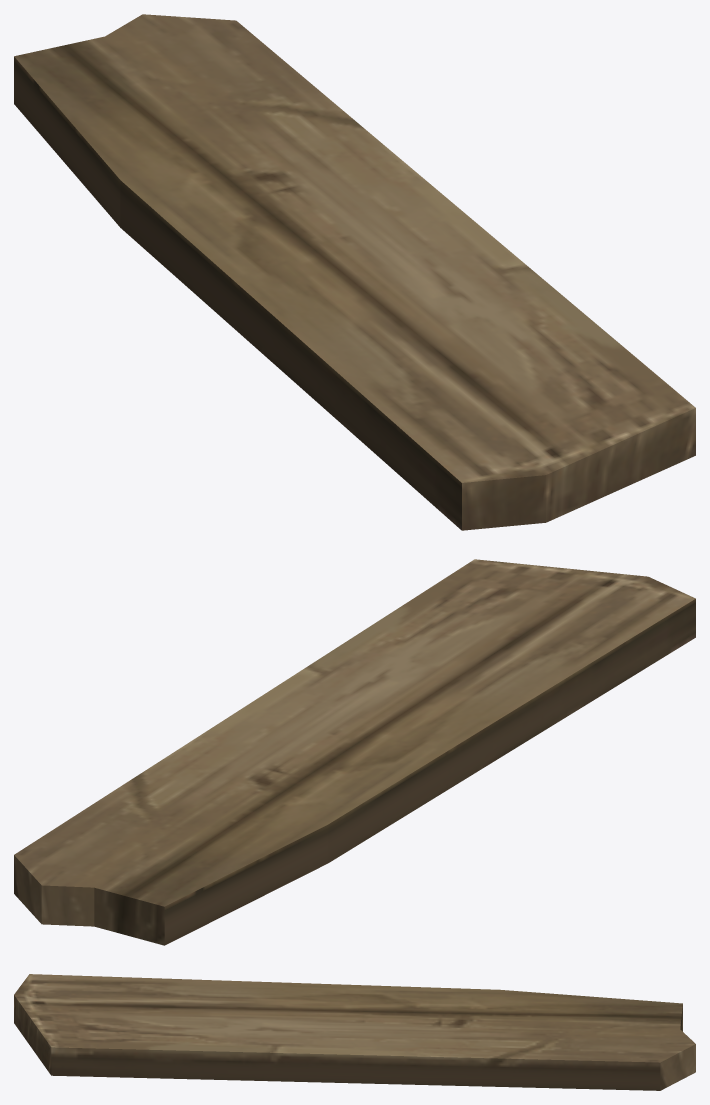
The model's file is muban_03.FBX.
The picture shows the model from 3 angles, top to bottom: view 1: azimuth 30°, elevation 25°; view 2: azimuth 150°, elevation 25°; view 3: azimuth 270°, elevation 25°; orthographic projection. The views are drawn at different scales.
Parts seen in each view (by area): view 1: Object005; view 2: Object005; view 3: Object005.
Part boxes in pixels (<box>): Object005: <box>14,14,695,530</box>; Object005: <box>14,559,695,945</box>; Object005: <box>14,974,695,1090</box>.
Size of the model in its own units: 105 by 15.76 by 343.
